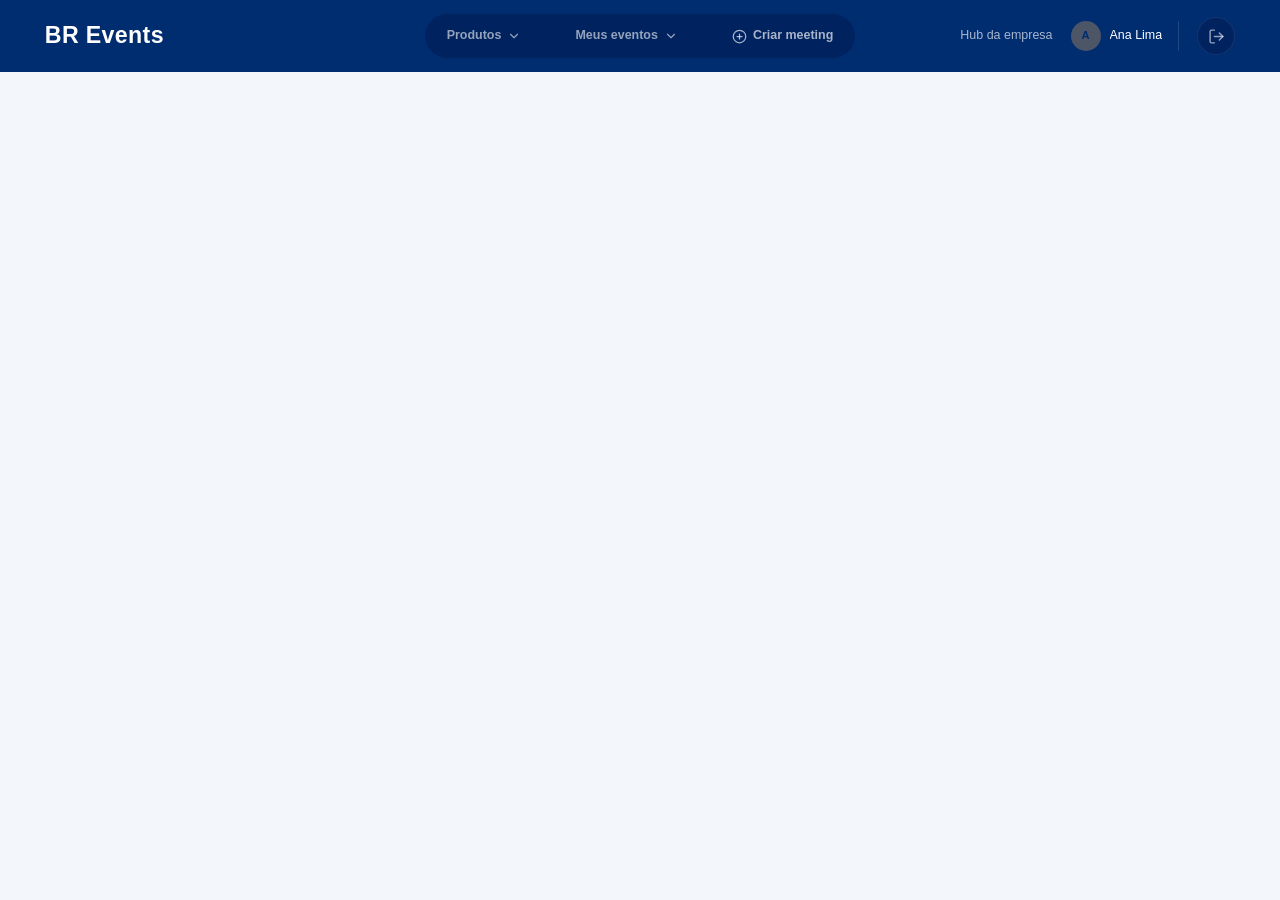
Scenario: conta e hub › abre os dados do usuário pelo header e oferece o hub para participante
Expected: the link "Hub da empresa" is shown, top-left (960, 26), bottom-right (1052, 46)
Step 1. Click the button "A Ana Lima" → (1125, 36), box top-left (1070, 21), bottom-right (1179, 51)
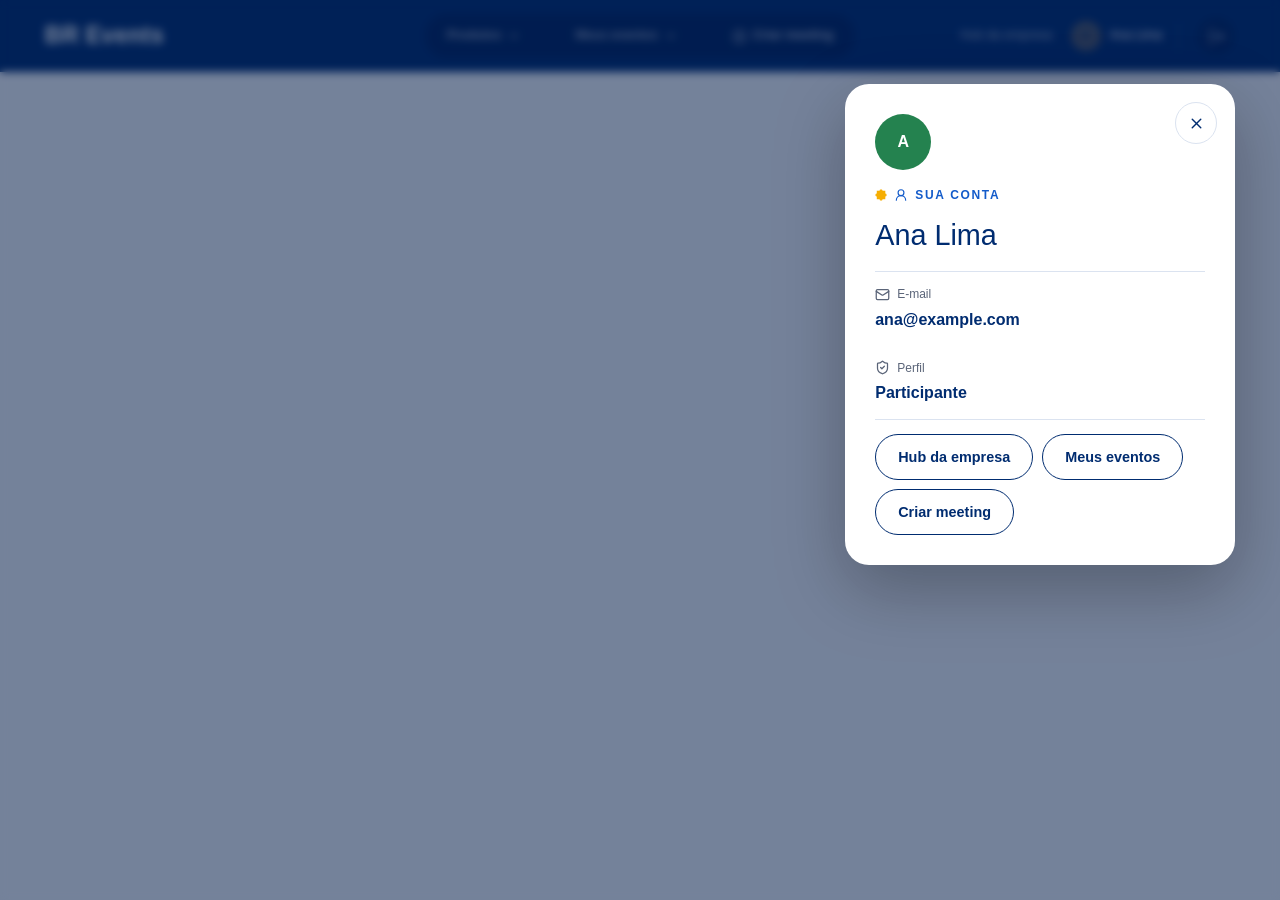
Now the dialog "Ana Lima" is shown, box top-left (845, 84), bottom-right (1235, 565)
Now the text "ana@example.com" is shown, box top-left (875, 311), bottom-right (1020, 328)
Now the text "Participante" is shown, box top-left (875, 384), bottom-right (967, 401)
